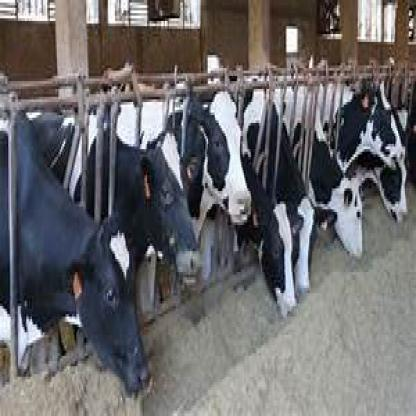cow: (0, 108, 153, 401), (129, 131, 202, 288), (188, 92, 254, 230), (252, 199, 305, 319), (288, 194, 338, 298), (331, 175, 365, 262)
